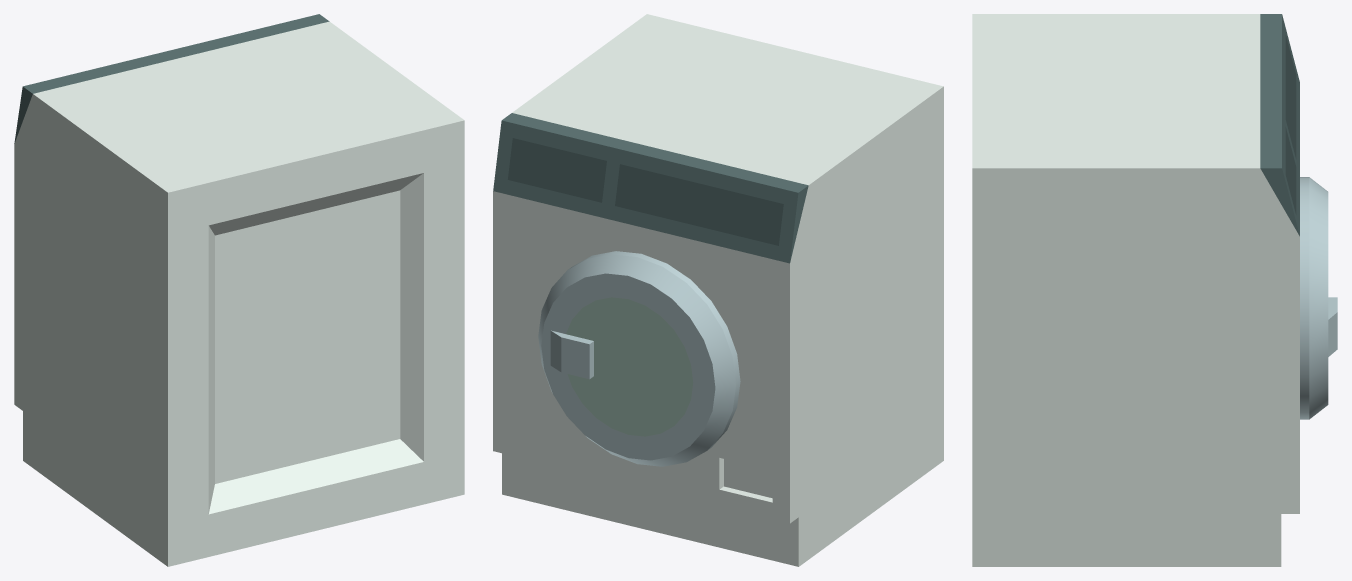
Rendered from washer.dae.
3 views of the same model, side by side, from view 1: azimuth 30°, elevation 25°; view 2: azimuth 150°, elevation 25°; view 3: azimuth 270°, elevation 25° (orthographic). The views are drawn at different scales.
Visible parts, largest first — view 1: washer; view 2: washer, washerDoor; view 3: washer, washerDoor.
Part boxes in pixels (x1,y1,x2,y2): washer: [14, 14, 464, 566]; washer: [493, 14, 943, 566]; washerDoor: [538, 251, 740, 466]; washer: [972, 14, 1299, 566]; washerDoor: [1300, 177, 1337, 419].
Size of the model in its own units: 0.39 by 0.47 by 0.39.
